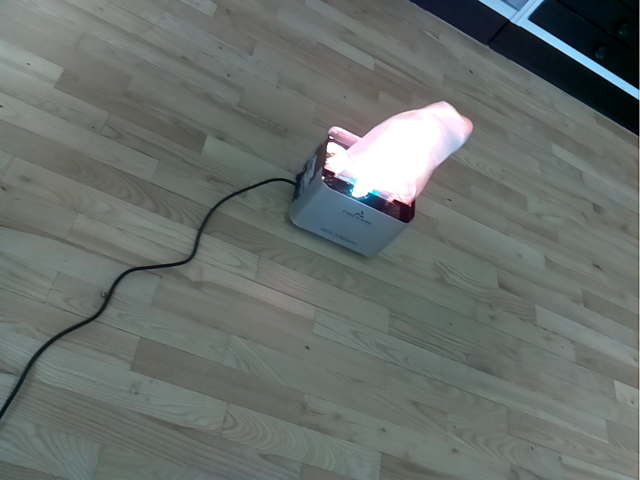fire: (323, 100, 473, 206)
